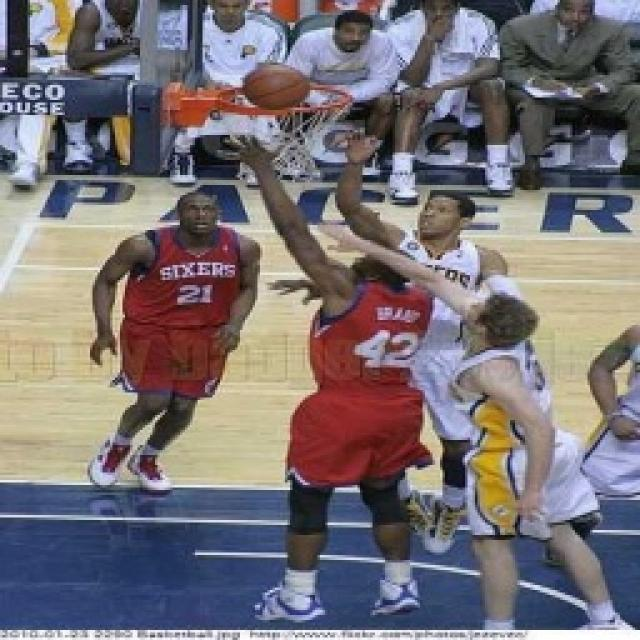rim: (238, 54, 316, 116)
